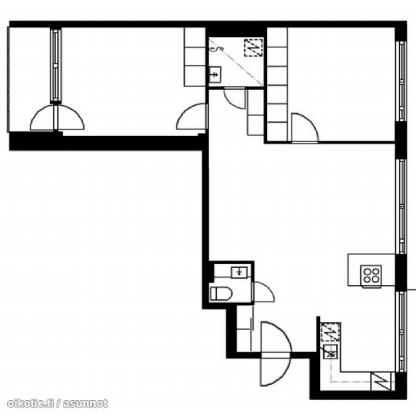door: (256, 321, 296, 388), (25, 104, 85, 132), (287, 111, 322, 150), (171, 103, 211, 130), (223, 86, 246, 112), (250, 283, 275, 303)
window: (392, 159, 406, 254), (395, 290, 409, 373), (392, 43, 406, 121), (50, 29, 64, 100)
zone: (208, 88, 398, 394), (61, 27, 205, 136), (264, 27, 395, 142), (10, 26, 54, 131), (210, 37, 263, 87), (209, 264, 252, 303)
